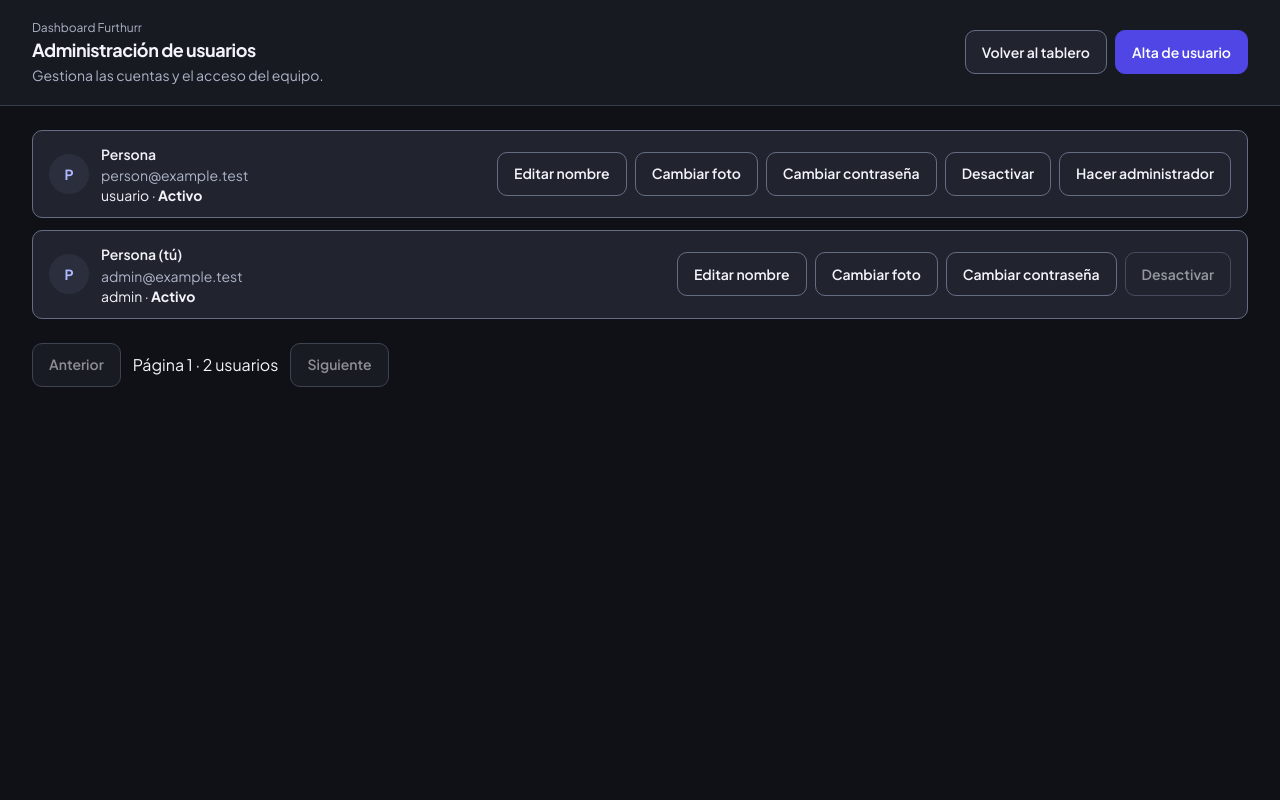
it: Administración de usuarios › precarga el nombre y actualiza el listado sin enviar otros campos
The width and height of the screenshot is (1280, 800).
Step 1. Click the button with aria-label "Editar nombre de person@example.test" → [562, 174], box [497,152,627,196]
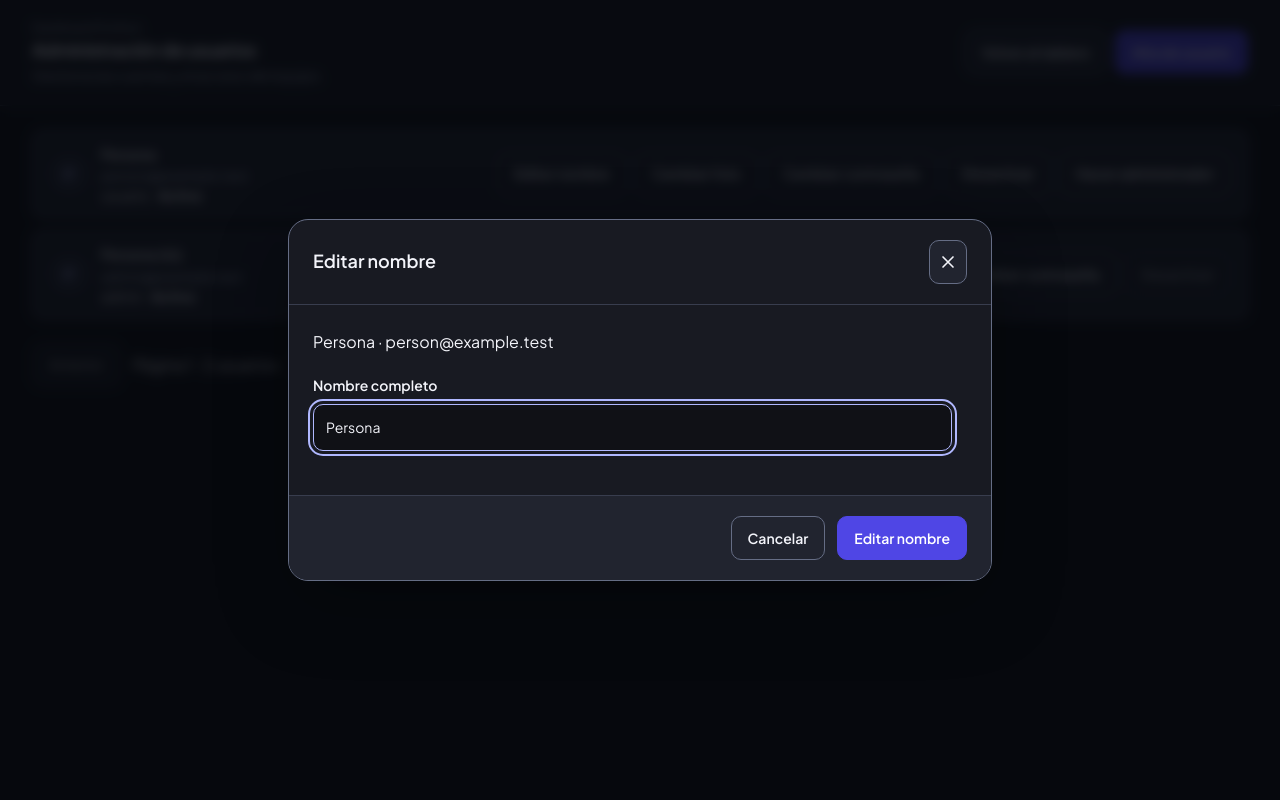
Expected: the field labelled "Nombre completo" holds "Persona"
Step 2. Replace the text in the field labelled "Nombre completo" with "  Nombre actualizado  " → [632, 428], box [313,404,952,452]
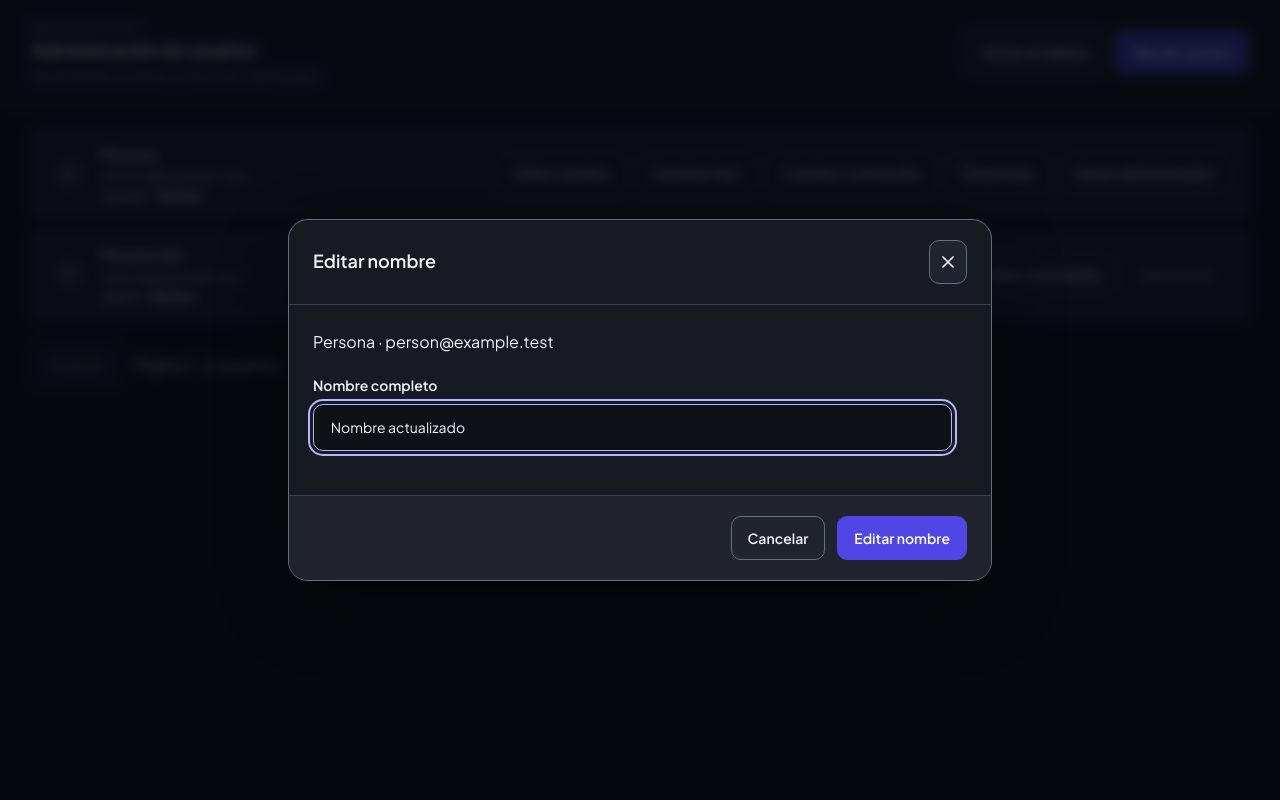
Step 3. Click the button "Editar nombre" → [902, 538], box [837,516,967,560]
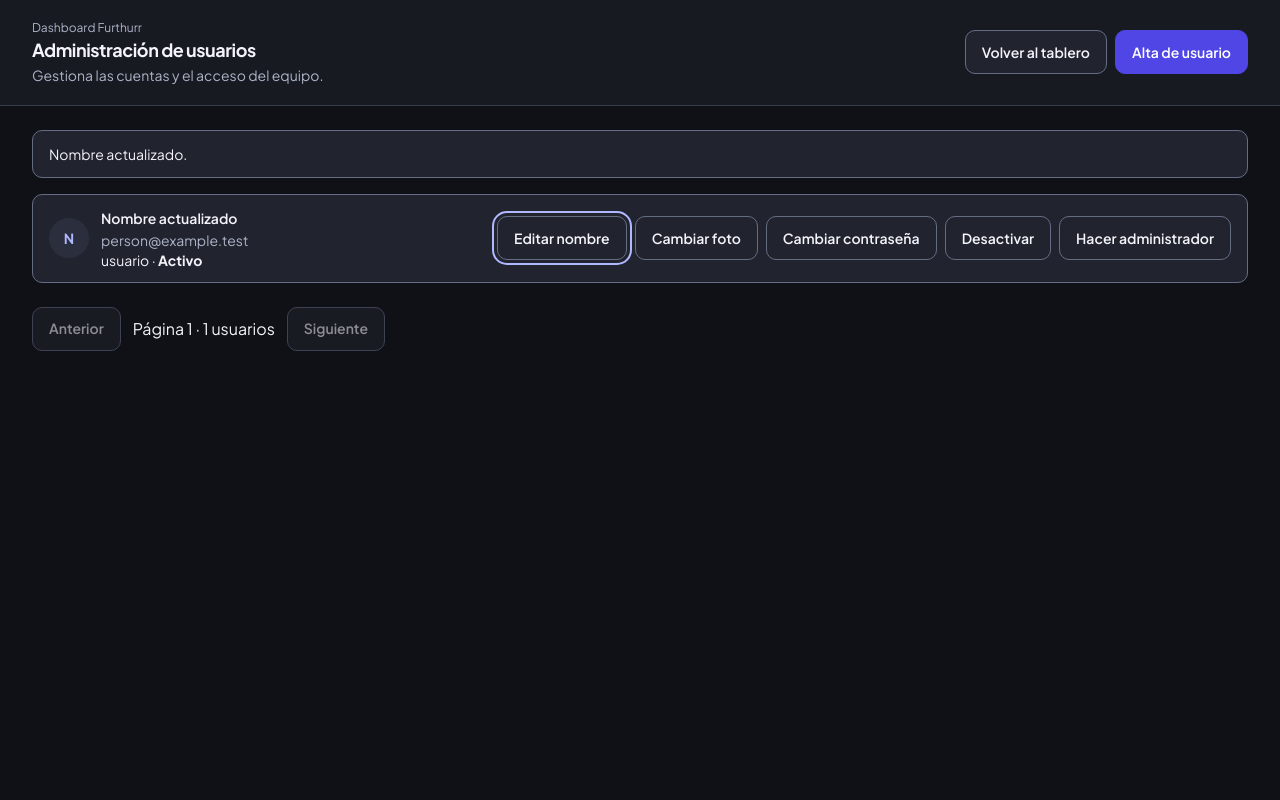
Expected: the text "Nombre actualizado." is shown, [32,130,1248,178]
Expected: the heading "Nombre actualizado" is shown, [101,207,248,230]
Expected: the dialog is gone
